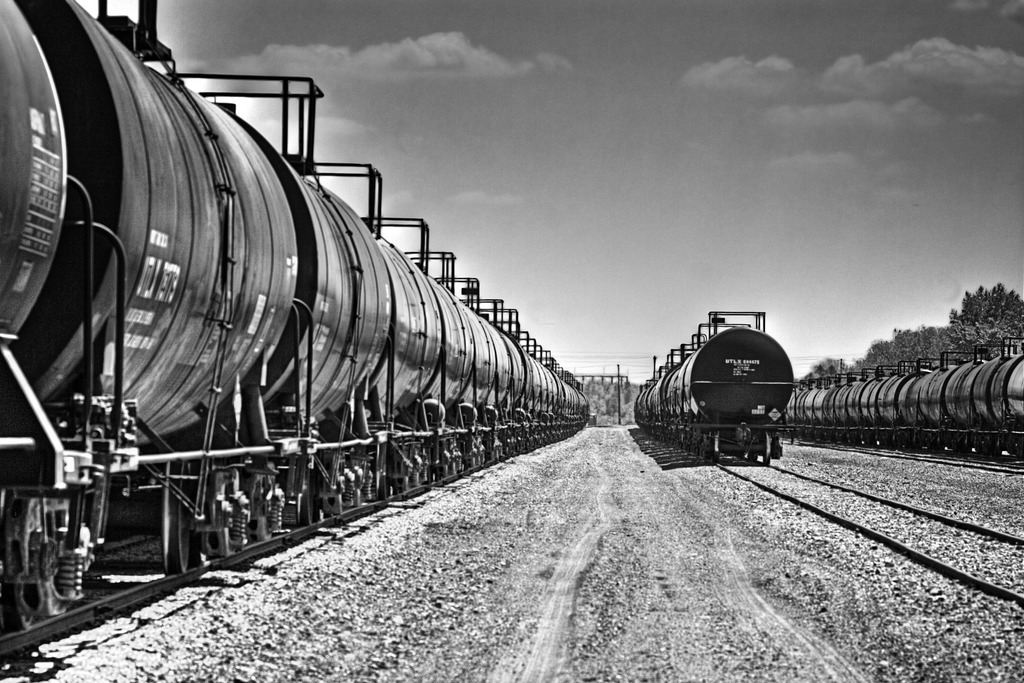train: (634, 308, 800, 470)
